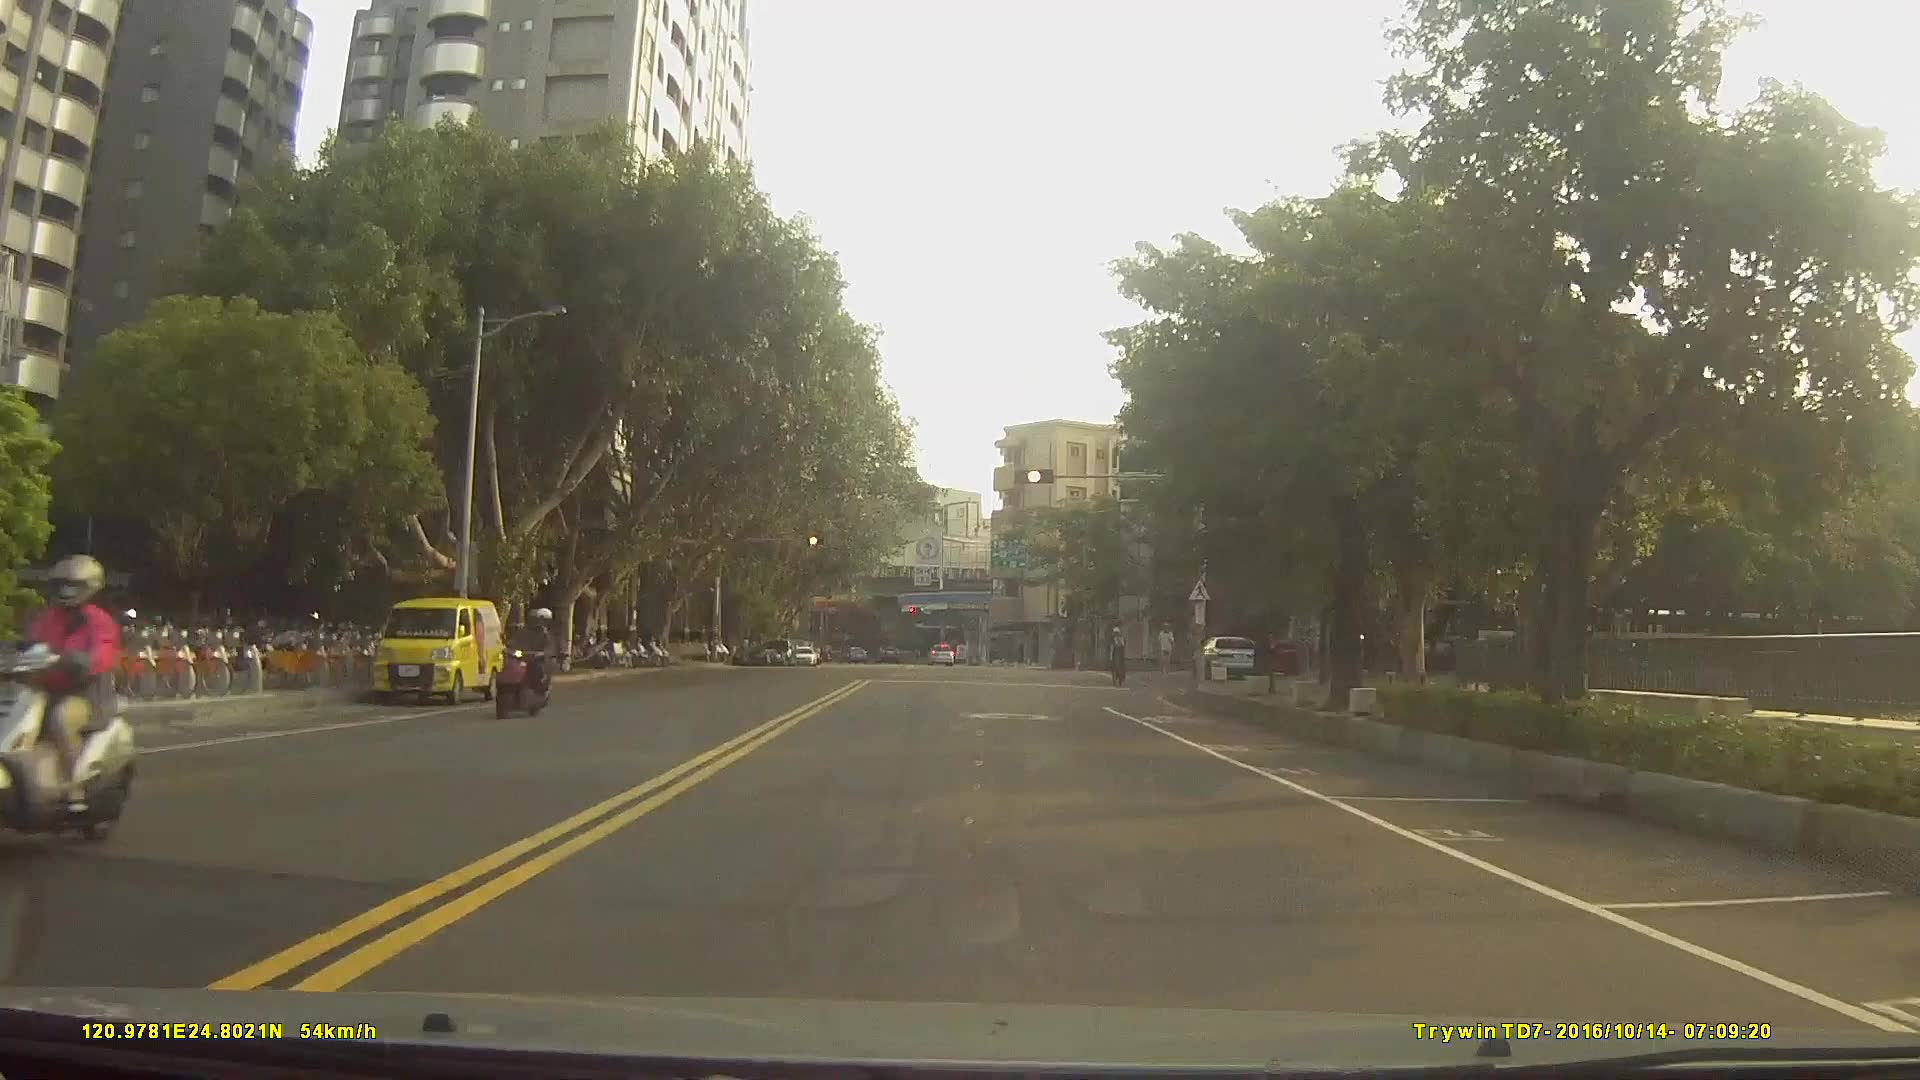pedestrian: (1157, 618, 1177, 677)
rider: (13, 550, 145, 863), (496, 604, 559, 718), (1109, 619, 1132, 679)
vehicle: (1192, 634, 1260, 677), (789, 645, 819, 667), (930, 643, 954, 665)
